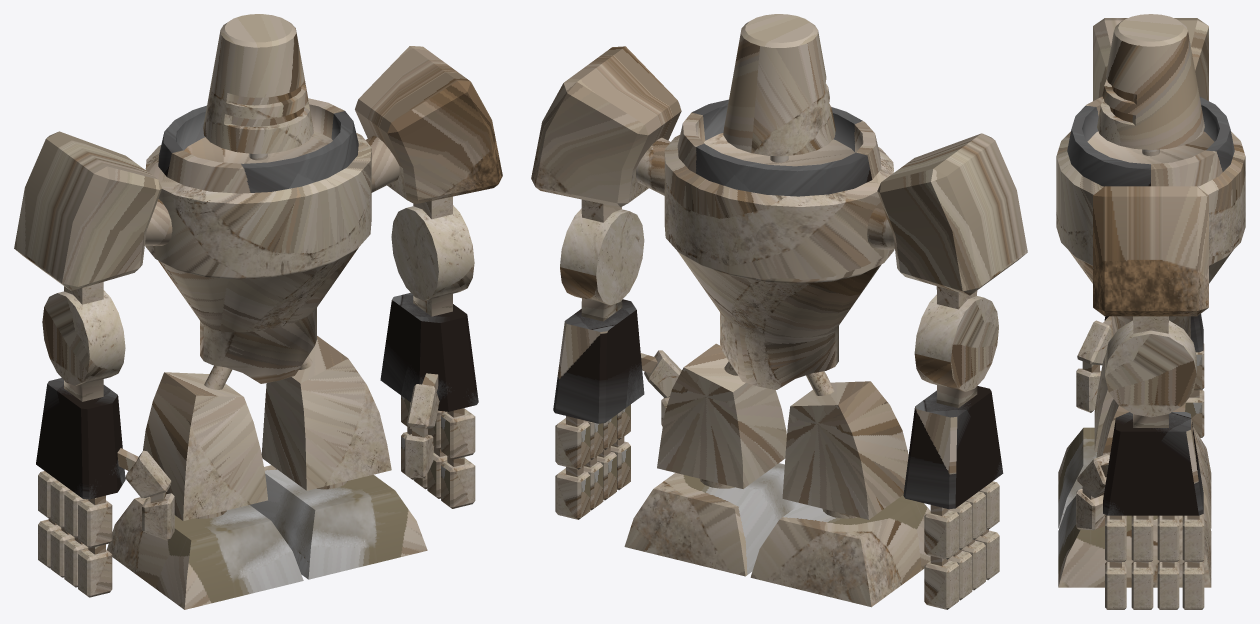
The model's file is EW_enemy1.fbx.
3 renders of one model, left to right at view 1: azimuth 30°, elevation 25°; view 2: azimuth 150°, elevation 25°; view 3: azimuth 270°, elevation 25°, orthographic. The views are drawn at different scales.
Visible parts, largest first — view 1: body, pCube34 (×2), pCube68 (×2), pCube69 (×2), pCube56 (×2), pCylinder20 (×2), head, pCube63 (×2), pCube60 (×2), pCube52 (×2), pCube67 (×2), pCylinder12 (×2) (+3 smaller); view 2: body, pCube34 (×2), pCube68 (×2), pCube69 (×2), pCube56 (×2), pCylinder20 (×2), head, pCube50 (×2), pCube41 (×2), pCylinder12 (×2), pCube52, pCube60 (+2 smaller); view 3: pCube34 (×2), body, head, pCube56 (×2), pCube69 (×2), pCylinder20, pCube52 (×2), pCube67 (×2), pCube41 (×2), pCube68 (×2), pCube50 (×2), pCube45 (+6 smaller).
Part boxes in pixels (left/top/right/bottom): body: left=145, top=98, right=371, bottom=383; pCube34 (×2): left=14, top=46, right=502, bottom=290; pCube68 (×2): left=143, top=336, right=391, bottom=520; pCube69 (×2): left=107, top=465, right=427, bottom=609; pCube56 (×2): left=36, top=292, right=478, bottom=499; pCylinder20 (×2): left=42, top=205, right=474, bottom=401; head: left=203, top=14, right=313, bottom=153; pCube63 (×2): left=78, top=409, right=475, bottom=548; pCube60 (×2): left=78, top=458, right=475, bottom=597; pCube52 (×2): left=125, top=384, right=439, bottom=498; pCube67 (×2): left=142, top=434, right=433, bottom=540; pCylinder12 (×2): left=145, top=135, right=399, bottom=245; body: left=664, top=99, right=894, bottom=389; pCube34 (×2): left=531, top=46, right=1027, bottom=295; pCube68 (×2): left=657, top=343, right=908, bottom=519; pCube69 (×2): left=624, top=463, right=930, bottom=607; pCube56 (×2): left=553, top=299, right=1003, bottom=509; pCylinder20 (×2): left=560, top=208, right=998, bottom=408; head: left=723, top=14, right=835, bottom=156; pCube50 (×2): left=555, top=418, right=958, bottom=559; pCube41 (×2): left=555, top=468, right=958, bottom=609; pCylinder12 (×2): left=636, top=137, right=894, bottom=249; pCube52: left=644, top=350, right=681, bottom=398; pCube60: left=975, top=530, right=999, bottom=579; pCube34 (×2): left=1093, top=18, right=1208, bottom=316; body: left=1056, top=96, right=1245, bottom=338; head: left=1097, top=14, right=1204, bottom=149; pCube56 (×2): left=1103, top=314, right=1203, bottom=515; pCube69 (×2): left=1058, top=427, right=1211, bottom=587; pCylinder20: left=1105, top=320, right=1196, bottom=427; pCube52 (×2): left=1077, top=320, right=1111, bottom=497; pCube67 (×2): left=1076, top=368, right=1105, bottom=530; pCube41 (×2): left=1182, top=390, right=1204, bottom=609; pCube68 (×2): left=1094, top=355, right=1185, bottom=495; pCube50 (×2): left=1182, top=343, right=1204, bottom=561; pCube45: left=1157, top=561, right=1179, bottom=609.
Bounding box in the file's own units: 13.53 × 15.17 × 5.18.
